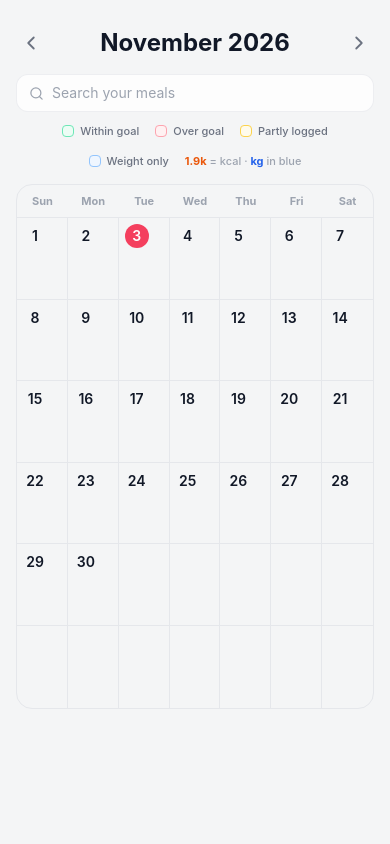
Test: CalendarTab month swiping › still opens a day on a plain tap
The width and height of the screenshot is (390, 844).
Click the button "3": (144, 259) [119,218,170,300]
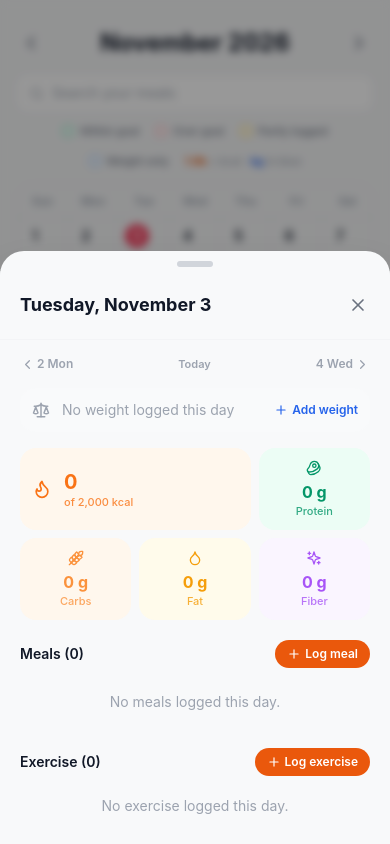
Expected: the text "No weight logged this day" is shown, [62,400,234,420]
